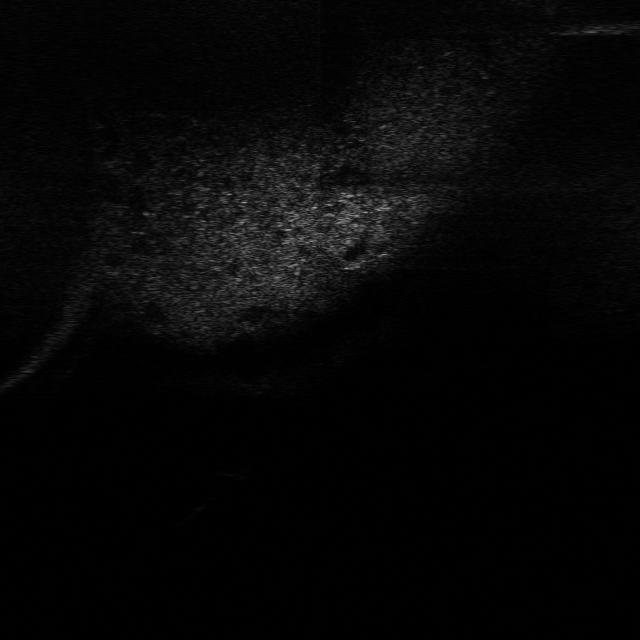cube: (207, 451, 258, 483)
